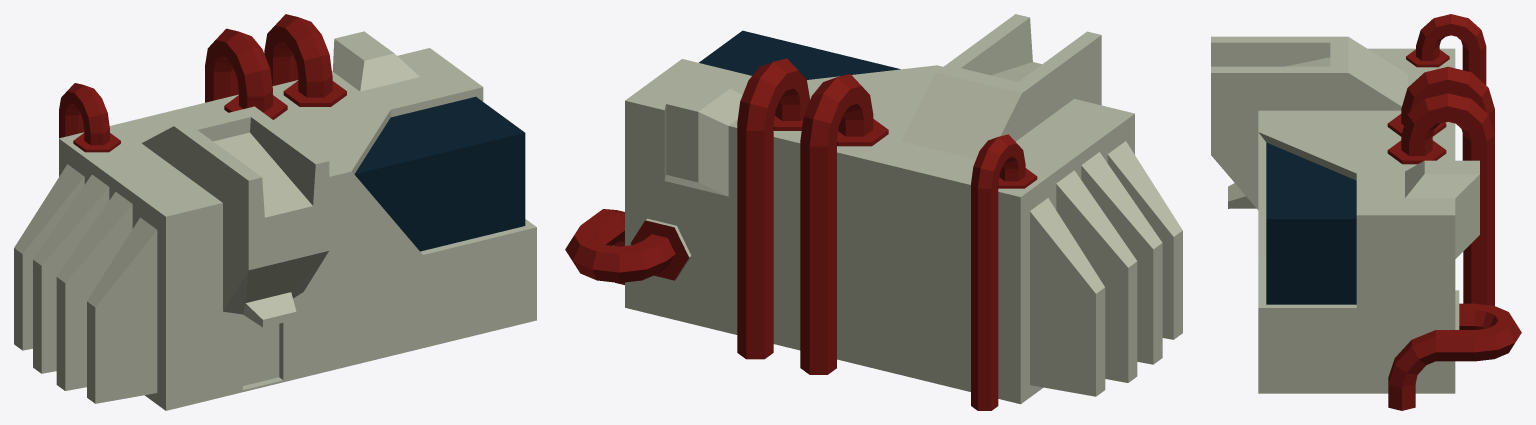
The model's file is House_8.fbx.
3 renders of one model, left to right at view 1: azimuth 30°, elevation 25°; view 2: azimuth 150°, elevation 25°; view 3: azimuth 270°, elevation 25°, orthographic. The views are drawn at different scales.
Visible parts, largest first — view 1: H8; view 2: H8; view 3: H8.
Boxes of the visible parts, left/top/right/bottom form: H8: left=14, top=14, right=536, bottom=410; H8: left=565, top=14, right=1182, bottom=410; H8: left=1211, top=14, right=1521, bottom=410.
Bounding box in the file's own units: 1275 × 672 × 789.
